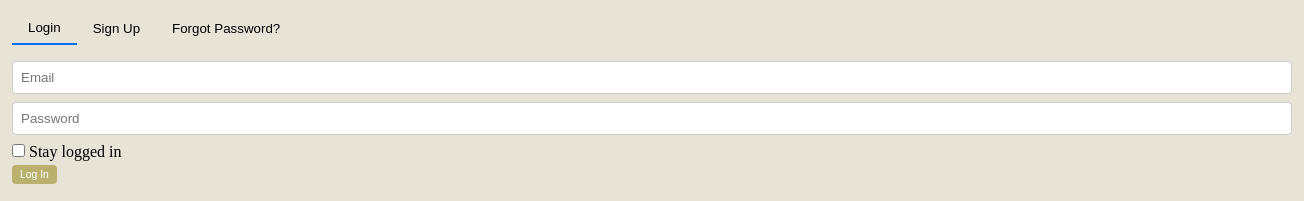
Test case: AuthForm › submits forgot password form with correct data
Click the button with test id "forgot-password-tab" at [226, 28], box [156, 12, 296, 45]
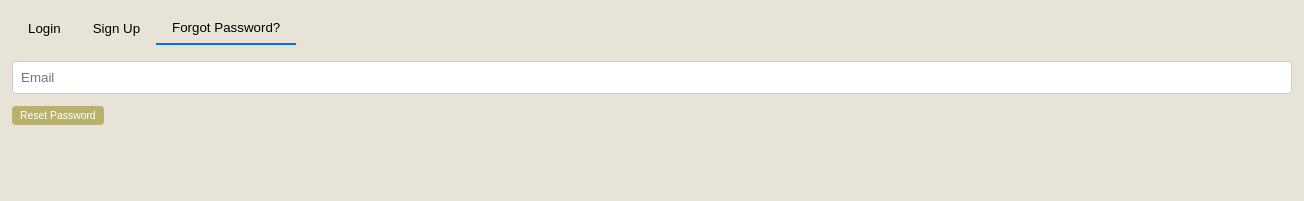
Type "test@example.com" into the field with placeholder "Email" at [652, 78], box [12, 61, 1292, 94]
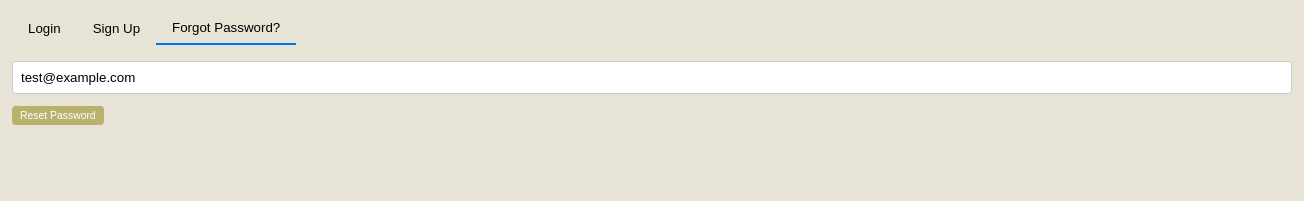
Click the button with test id "forgot-password-submit" at [58, 116], box [12, 106, 104, 125]
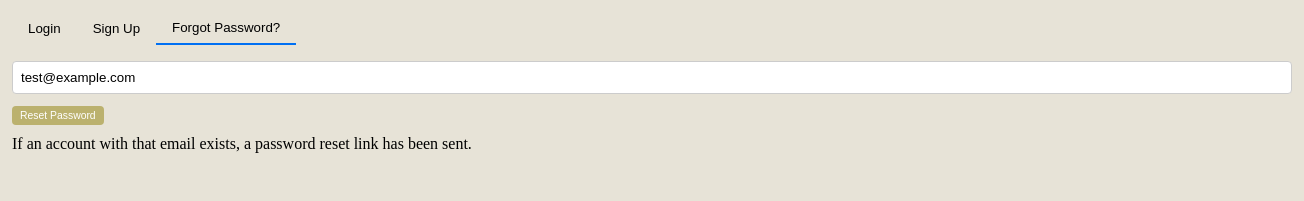
Result: the text "If an account with that email exists, a password reset link has been sent." is shown at [12, 135, 472, 152]
